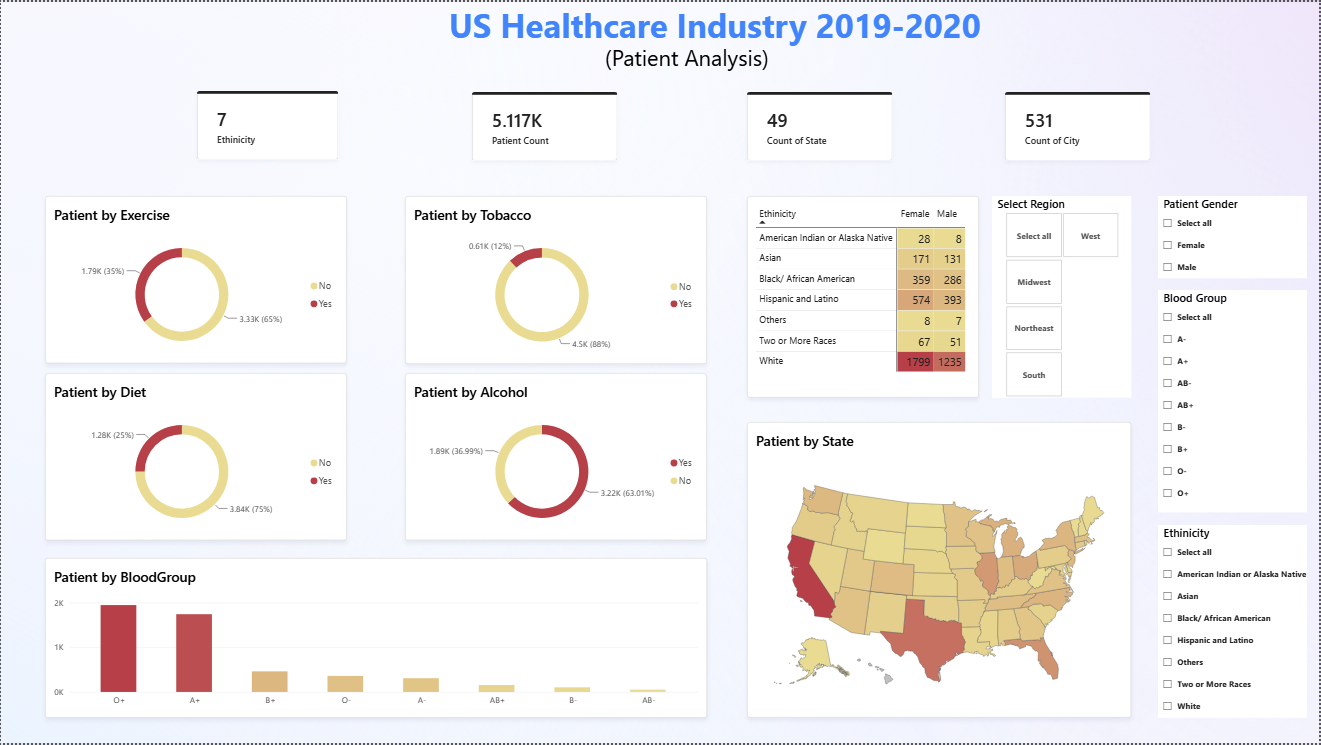

The dashboard page shown, as its layout file describes it:
{"tool":"powerbi","page":{"name":"Patient Analysis","canvas":[1920,1080],"ordinal":1},"visuals":[{"type":"textbox","box":[652.8,0,869.1,84.2],"z":0},{"type":"textbox","box":[880.3,58.3,297.3,72.9],"z":1000},{"type":"cardVisual","fields":{"Data":["Count(DimPatient.Ethinicity)"]},"box":[285.7,129.7,206.8,100.3],"z":2000},{"type":"cardVisual","fields":{"Data":["CountNonNull(DimPatient.dimPatientPK)"]},"box":[686.5,131.2,213,100.3],"z":3000},{"type":"cardVisual","fields":{"Data":["Count(DimPatient.State)"]},"box":[1087.3,131.2,213,100.3],"z":4000},{"type":"cardVisual","fields":{"Data":["Count(DimPatient.City)"]},"box":[1463.3,131.2,213,100.3],"z":5000},{"type":"donutChart","title":"Patient by Exercise","fields":{"Category":["DimPatient.Exercise"],"Y":["CountNonNull(DimPatient.dimPatientPK)"]},"box":[64.1,282.8,440,244],"z":6000},{"type":"donutChart","title":"Patient by Diet","fields":{"Category":["DimPatient.Diet"],"Y":["CountNonNull(DimPatient.dimPatientPK)"]},"box":[64.1,540.7,440,244],"z":7000},{"type":"donutChart","title":"Patient by Alcohol","fields":{"Category":["DimPatient.Alcohol"],"Y":["CountNonNull(DimPatient.dimPatientPK)"]},"box":[588.8,540.7,440,244],"z":8000},{"type":"clusteredColumnChart","title":"Patient by BloodGroup","fields":{"Category":["DimPatient.BloodGroup"],"Y":["CountNonNull(DimPatient.dimPatientPK)"]},"box":[64.1,810.4,964.9,233.2],"z":9000},{"type":"donutChart","title":"Patient by Tobacco","fields":{"Category":["DimPatient.Tobacco"],"Y":["CountNonNull(DimPatient.dimPatientPK)"]},"box":[588.8,282.8,440.2,244.9],"z":10000},{"type":"pivotTable","fields":{"Columns":["DimPatient.PatientGender"],"Rows":["DimPatient.Ethinicity"],"Values":["Measure / Calculations.Distinct Patient"]},"box":[1087.3,282.8,338.1,294.4],"z":11000},{"type":"shapeMap","title":"Patient by State","fields":{"Category":["DimPatient.State"],"Value":["Measure / Calculations.Distinct Patient"]},"box":[1087.3,612.1,559.7,431.4],"z":12000},{"type":"slicer","fields":{"Values":["DimPatient.Region"]},"box":[1444.4,282.8,203,294],"z":13000},{"type":"slicer","fields":{"Values":["DimPatient.PatientGender"]},"box":[1686.3,282.8,217.2,119.5],"z":14000},{"type":"slicer","fields":{"Values":["DimPatient.BloodGroup"]},"box":[1686.3,419.8,217.2,323.6],"z":15000},{"type":"slicer","fields":{"Values":["DimPatient.Ethinicity"]},"box":[1686.3,762.3,217.2,281.3],"z":16000}]}

Visuals, with their boxes in screenshot pixels (x1, y1, x2, y2), scaled from the page's 1920x1080 canvas onto the 1321x745 screenshot:
textbox: locate(449, 0, 1047, 58)
textbox: locate(606, 40, 810, 91)
cardVisual - Count(DimPatient.Ethinicity): locate(197, 89, 339, 159)
cardVisual - CountNonNull(DimPatient.dimPatientPK): locate(472, 91, 619, 160)
cardVisual - Count(DimPatient.State): locate(748, 91, 895, 160)
cardVisual - Count(DimPatient.City): locate(1007, 91, 1153, 160)
"Patient by Exercise" donutChart: locate(44, 195, 347, 363)
"Patient by Diet" donutChart: locate(44, 373, 347, 541)
"Patient by Alcohol" donutChart: locate(405, 373, 708, 541)
"Patient by BloodGroup" clusteredColumnChart: locate(44, 559, 708, 720)
"Patient by Tobacco" donutChart: locate(405, 195, 708, 364)
pivotTable - DimPatient.PatientGender x DimPatient.Ethinicity: locate(748, 195, 981, 398)
"Patient by State" shapeMap: locate(748, 422, 1133, 720)
slicer - DimPatient.Region: locate(994, 195, 1133, 398)
slicer - DimPatient.PatientGender: locate(1160, 195, 1310, 278)
slicer - DimPatient.BloodGroup: locate(1160, 290, 1310, 513)
slicer - DimPatient.Ethinicity: locate(1160, 526, 1310, 720)
